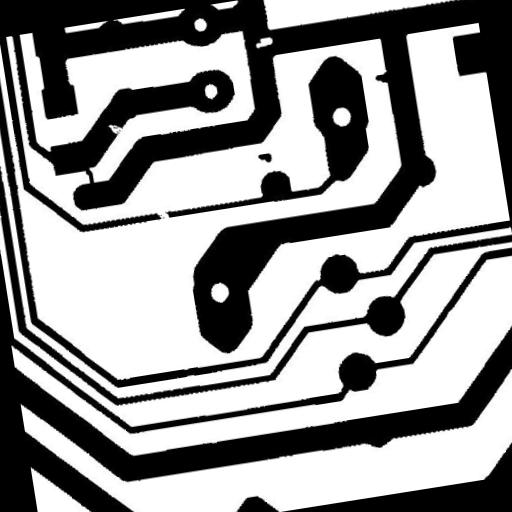copper: (248, 144, 280, 172)
mousebite: (99, 114, 132, 144)
open: (148, 199, 178, 231)
pin-hole: (246, 27, 281, 56)
short: (76, 158, 102, 194)
spur: (365, 62, 398, 92)
